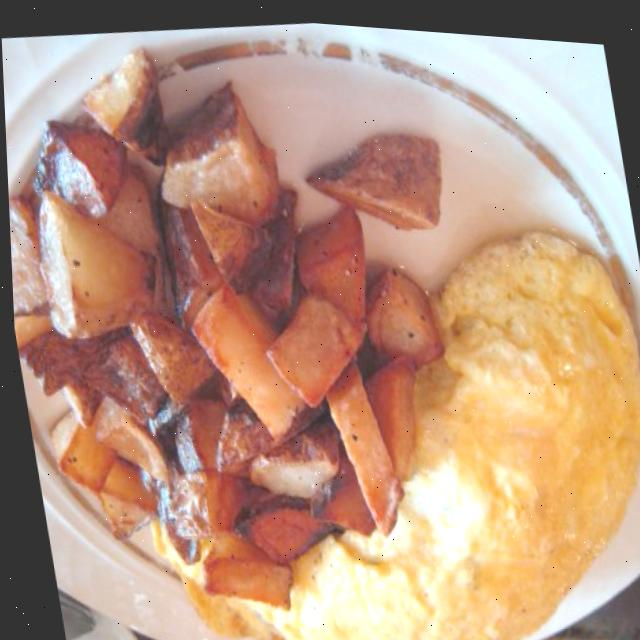鸡蛋料理: (100, 170, 640, 640)
